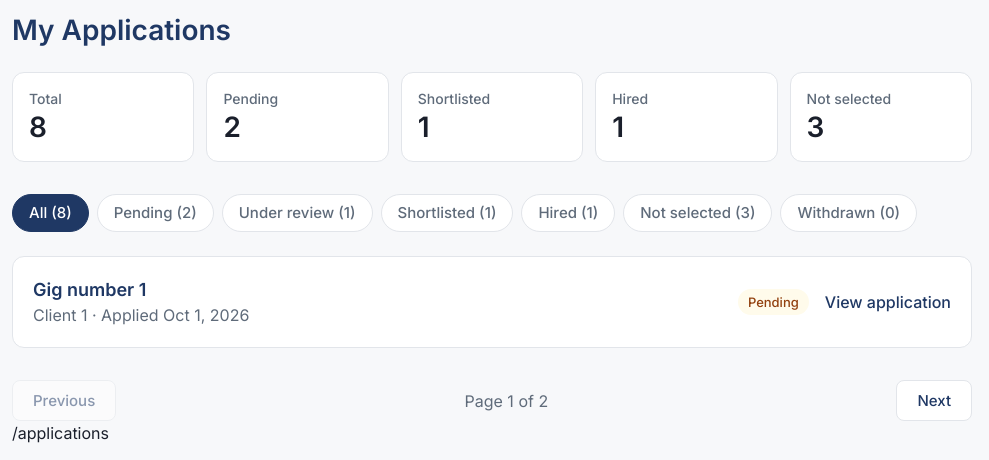
Test: MyApplications › pages through results and keeps the page in the URL
The image size is (989, 460).
expect the text "Page 1 of 2" is shown: met, box [464,388,548,412]
What coordinates should you click on to do the following:
click the button "Next"
I would click on:
 (934, 400)
Its box is [896,380,972,421].
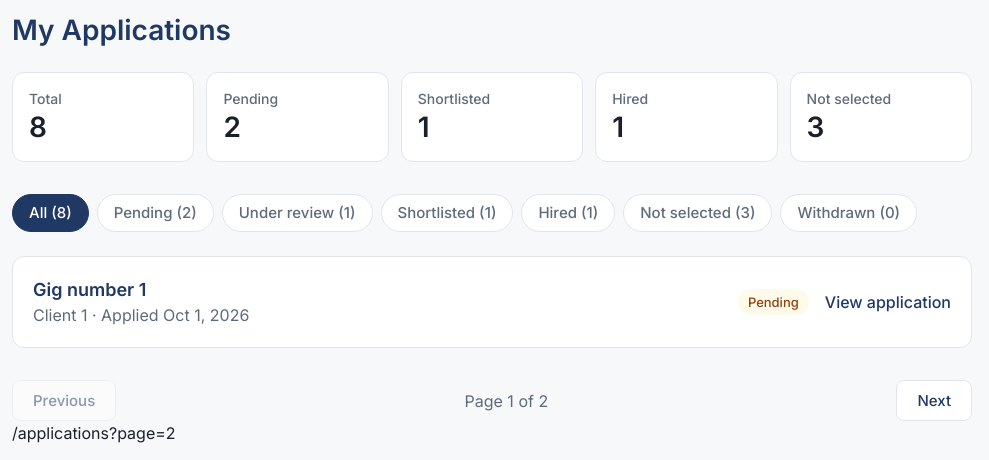
expect the text with test id "location" reads "/applications?page=2": met, box [12,423,176,443]
